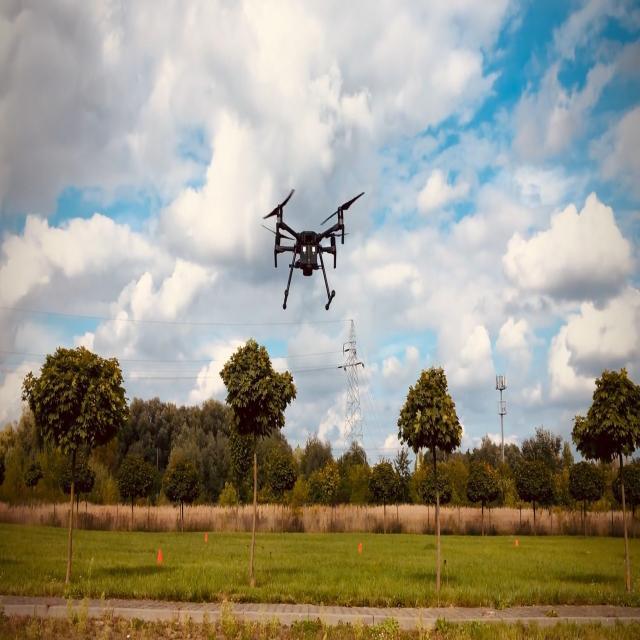drone: (261, 187, 364, 311)
